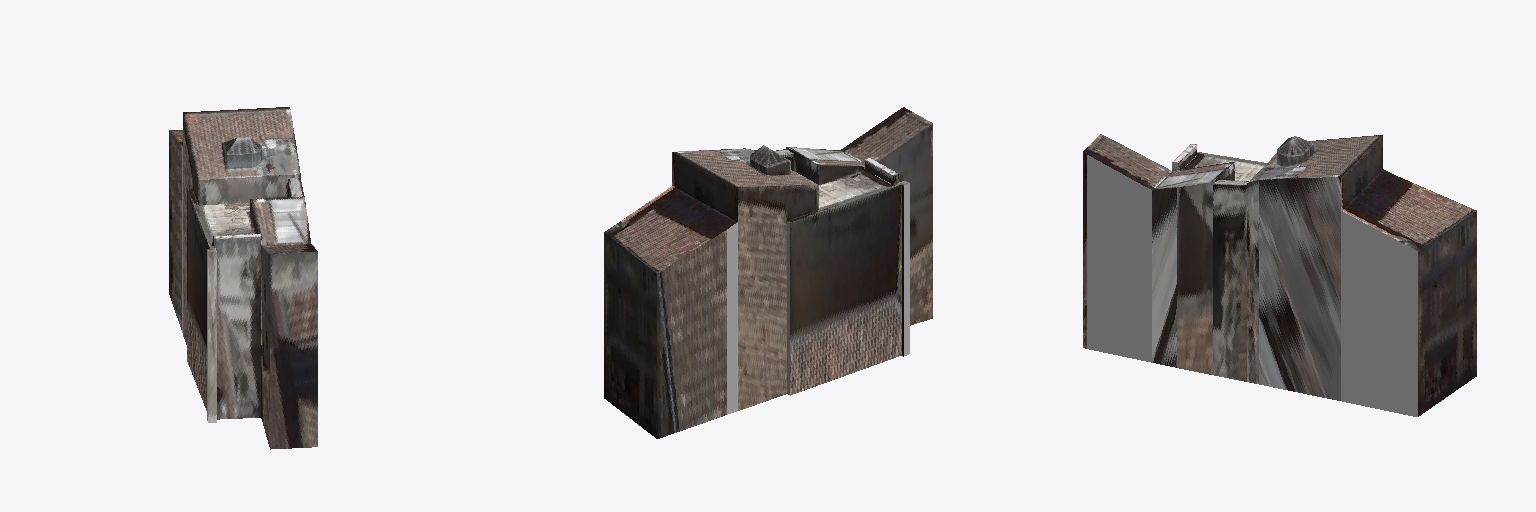
3 renders of one model, left to right at view 1: azimuth 30°, elevation 25°; view 2: azimuth 150°, elevation 25°; view 3: azimuth 270°, elevation 25°, orthographic.
Size of the model in its own units: 12.49 by 14.51 by 22.51.
138 materials, 1 textured.